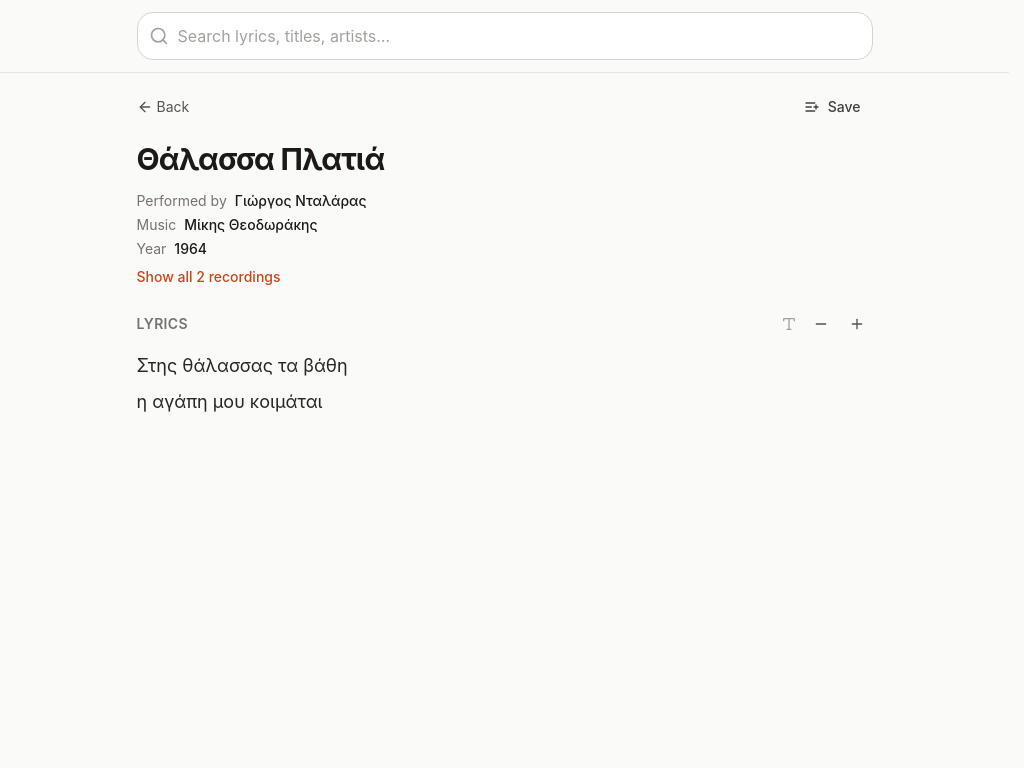
SongDetailPage recordings › lists every recording in the sheet
Click the button "Show all 2 recordings": click(208, 276) [136, 266, 280, 286]
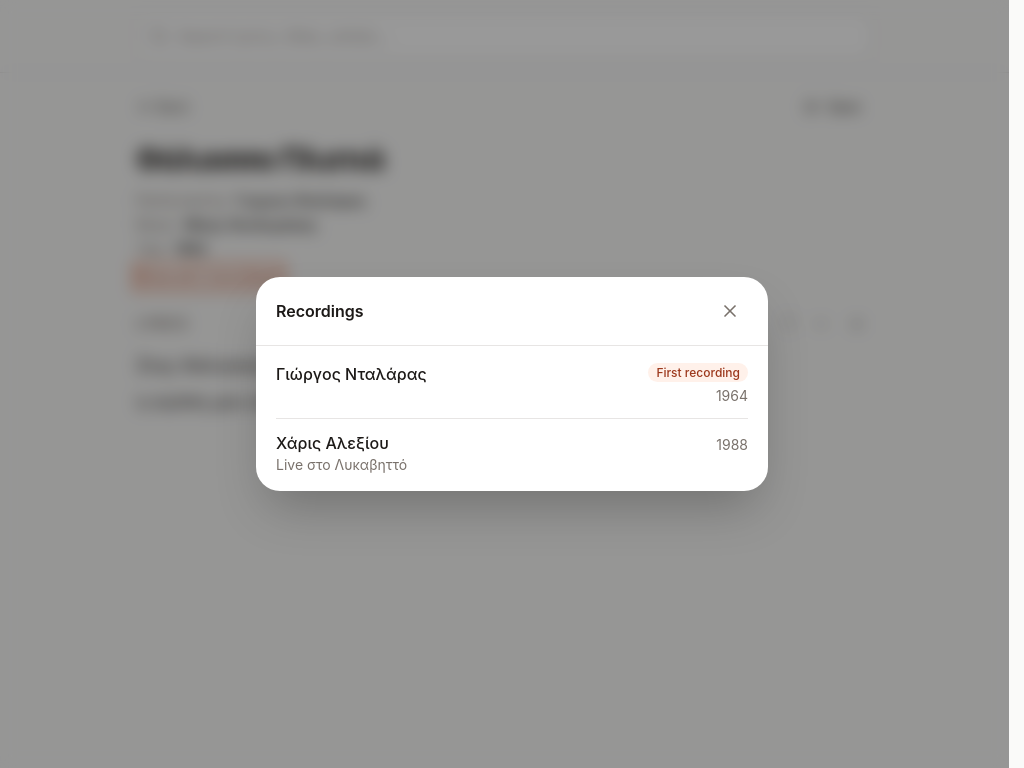
Check: the link "Γιώργος Νταλάρας" is shown, box [276, 364, 427, 384]
Check: the link "Χάρις Αλεξίου" is shown, box [276, 433, 389, 453]
Check: the text "Live στο Λυκαβηττό" is shown, box [276, 455, 407, 475]
